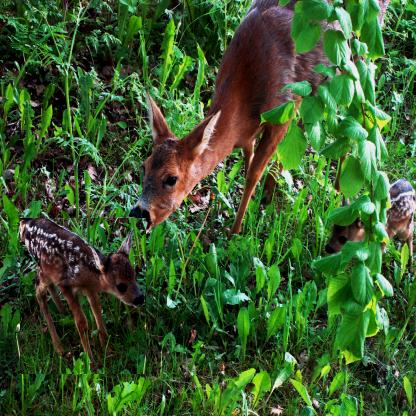Deer: (122, 0, 386, 250), (21, 218, 146, 374)
